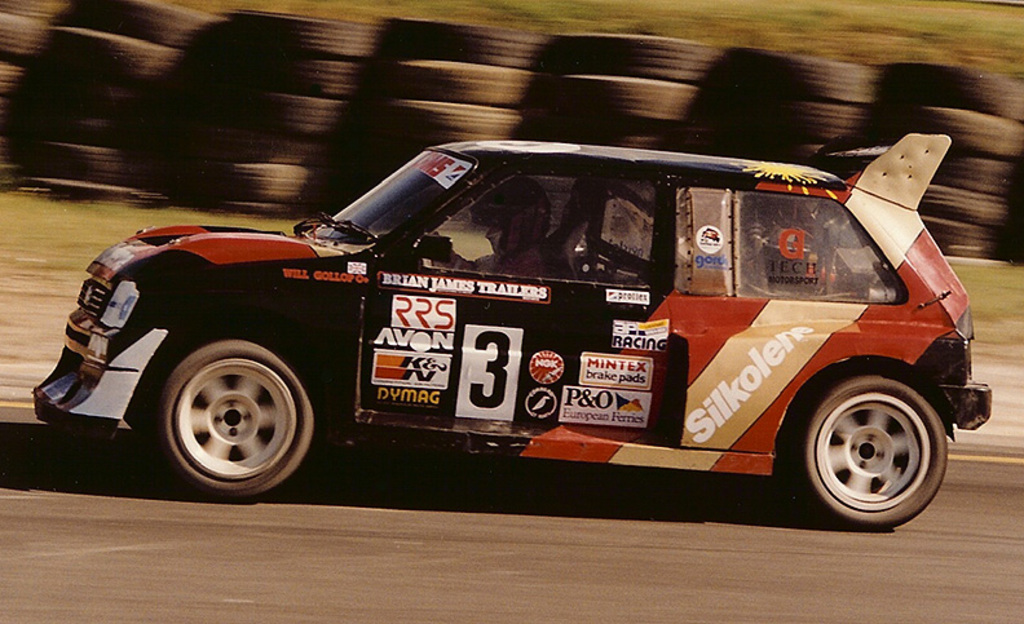Car: (34, 134, 994, 530)
